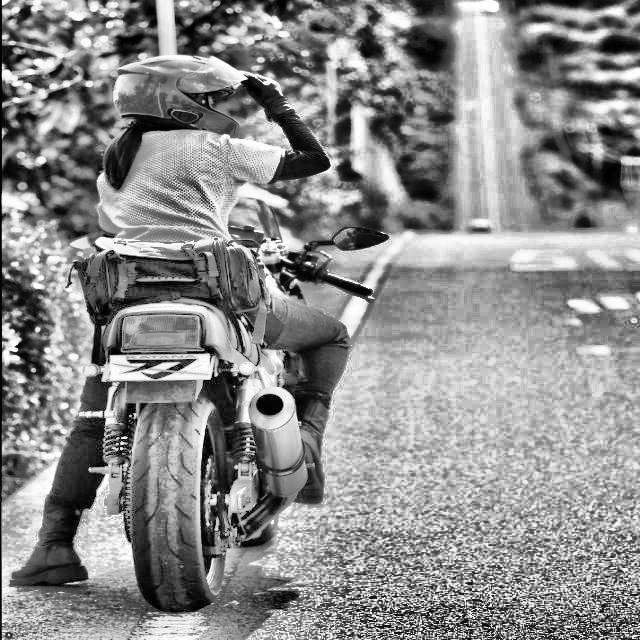Helmet: (108, 49, 251, 141)
